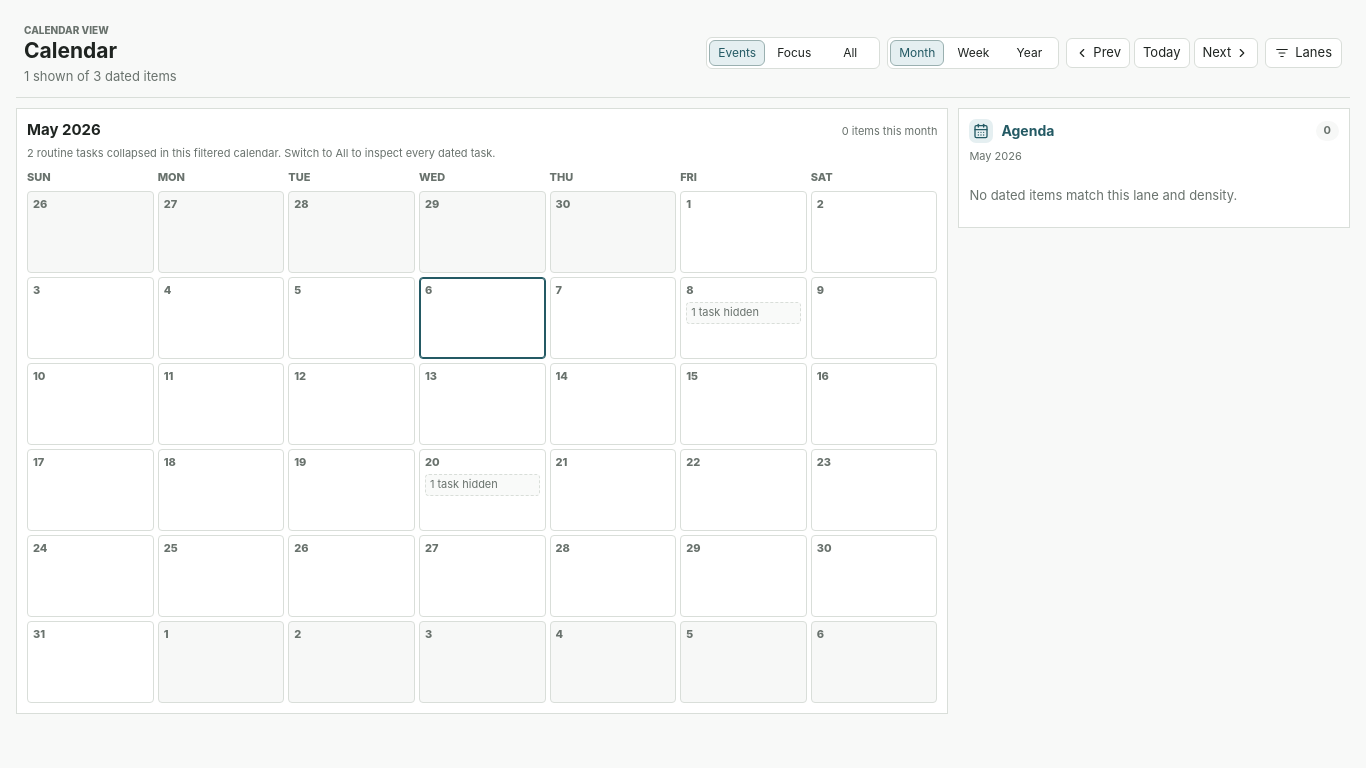
CalendarView › defaults to an event-first calendar scope and can reveal all tasks
Expected: the text "P1" is not shown
Expected: the text "Routine admin" is not shown
Click the button "Focus". click: coordinates (794, 52)
box: [767,40,821,66]
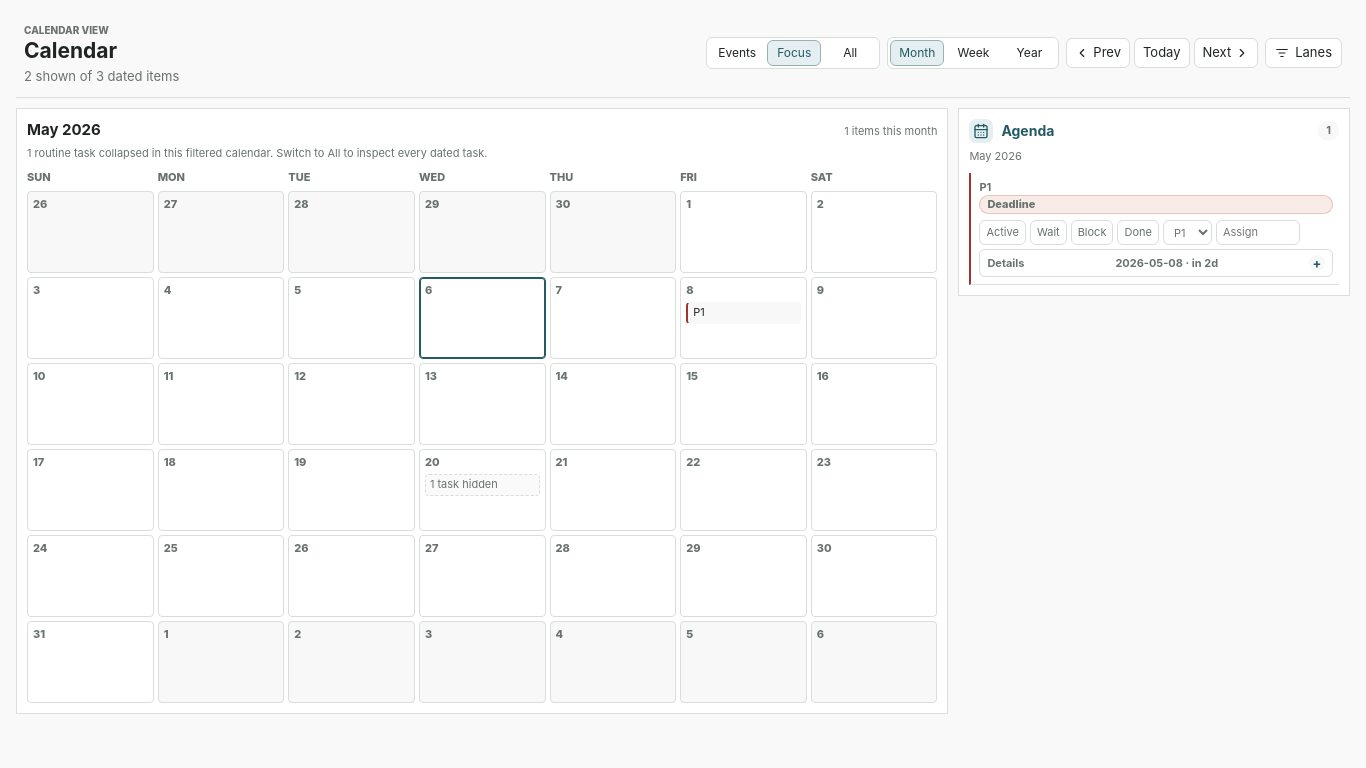
Now the text "P1" below "Wed" is shown, box [693,305,705,319]
Click the button "All". click: coordinates (850, 52)
box: [823,40,877,66]
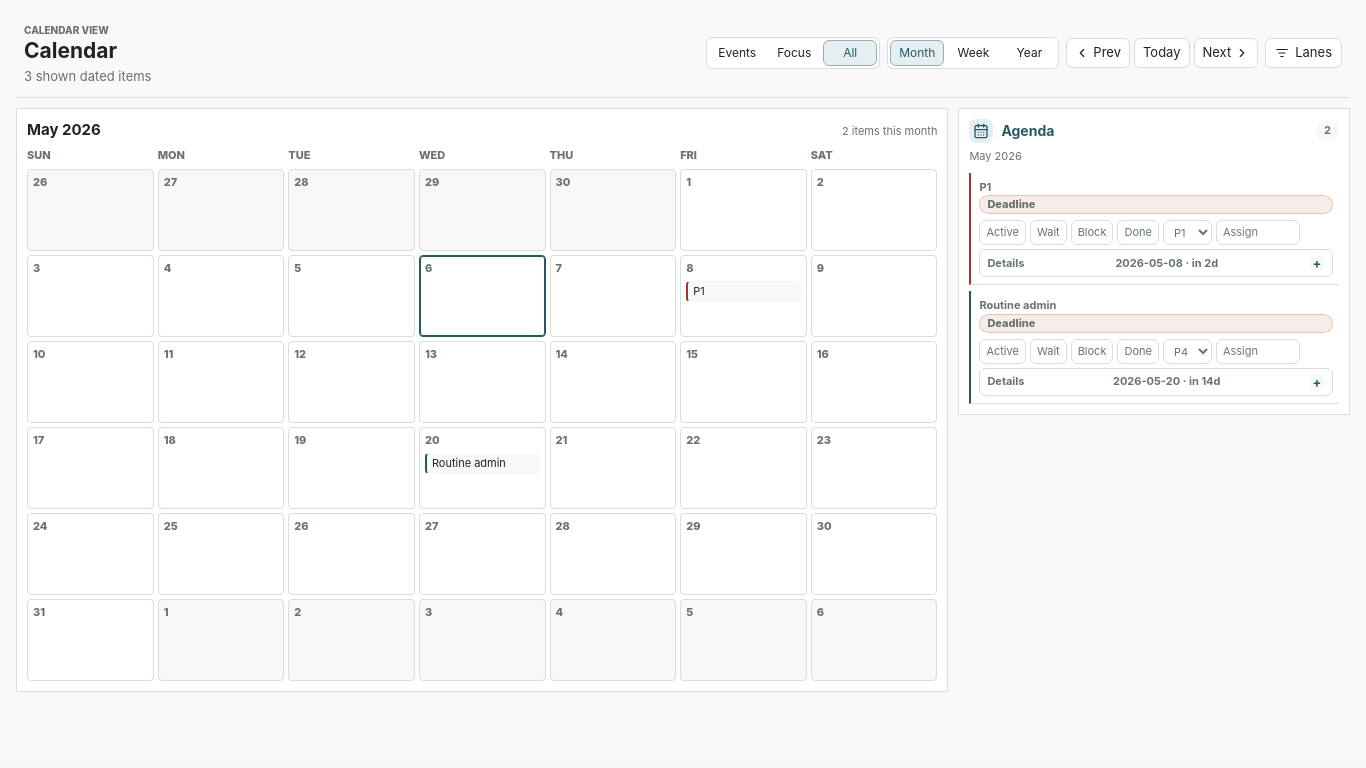
Now the text "Routine admin" below "18" is shown, box [432,456,506,470]
Now the text "1 task hidden" is gone
